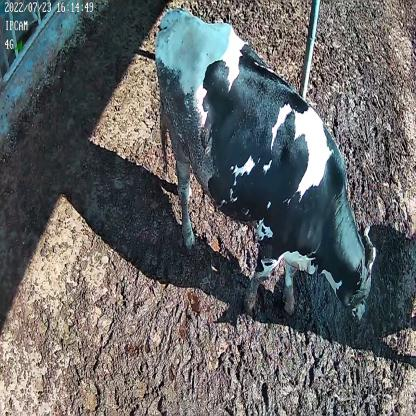cow: (155, 6, 378, 326)
